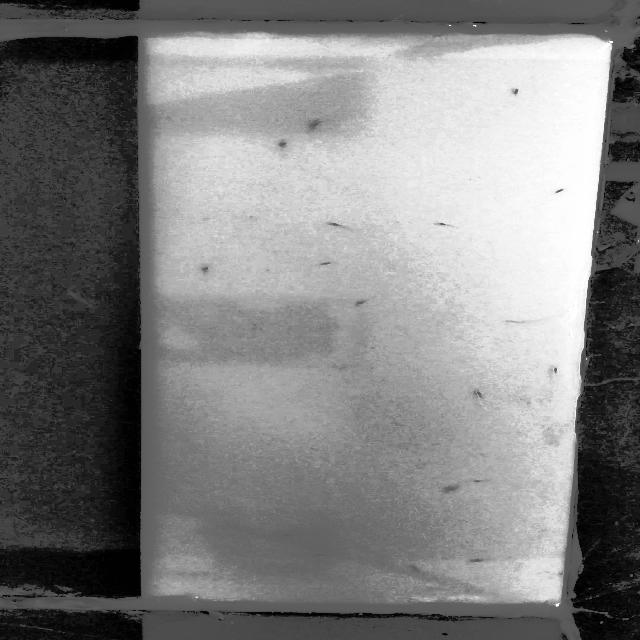shrimp: (138, 331, 164, 348), (348, 292, 378, 306), (541, 183, 570, 197), (463, 474, 502, 484), (322, 222, 356, 232), (304, 116, 324, 132), (311, 257, 336, 268), (503, 85, 528, 96), (548, 361, 564, 378), (429, 222, 466, 229), (268, 140, 300, 148), (196, 262, 217, 274), (275, 529, 300, 539), (470, 556, 494, 566), (438, 483, 462, 493), (312, 550, 338, 559), (472, 388, 488, 402), (405, 563, 422, 573)
